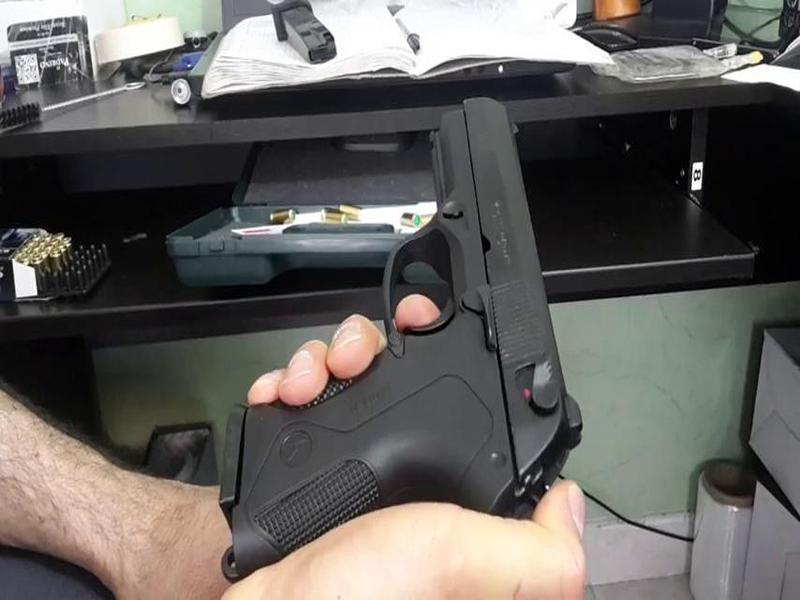Pistola: (208, 88, 584, 543)
